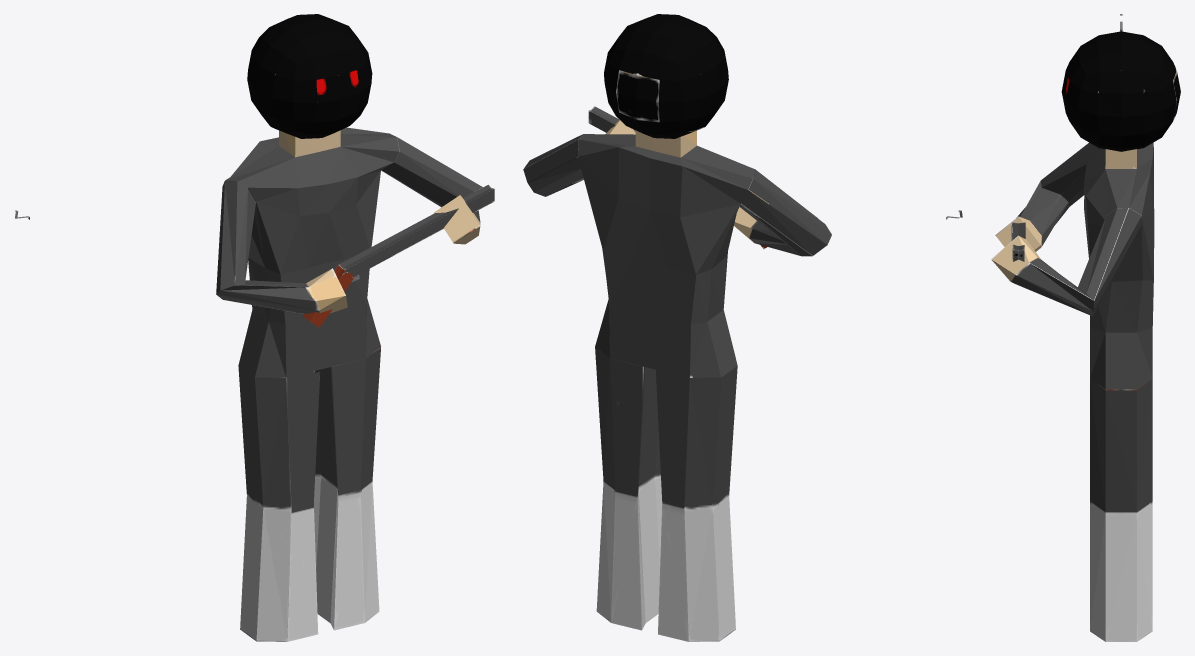
The model's file is boss.obj.
3 views of the same model, side by side, from view 1: azimuth 30°, elevation 25°; view 2: azimuth 150°, elevation 25°; view 3: azimuth 270°, elevation 25° (orthographic). The views are drawn at different scales.
Visible parts, largest first — view 1: 立方体; view 2: 立方体; view 3: 立方体.
Part boxes in pixels (<box>): 立方体: <box>15,14,494,641</box>; 立方体: <box>523,14,962,641</box>; 立方体: <box>991,14,1180,641</box>.
Size of the model in its own units: 7.06 by 8.94 by 2.67.
Materials: 1 (1 with a texture image).
